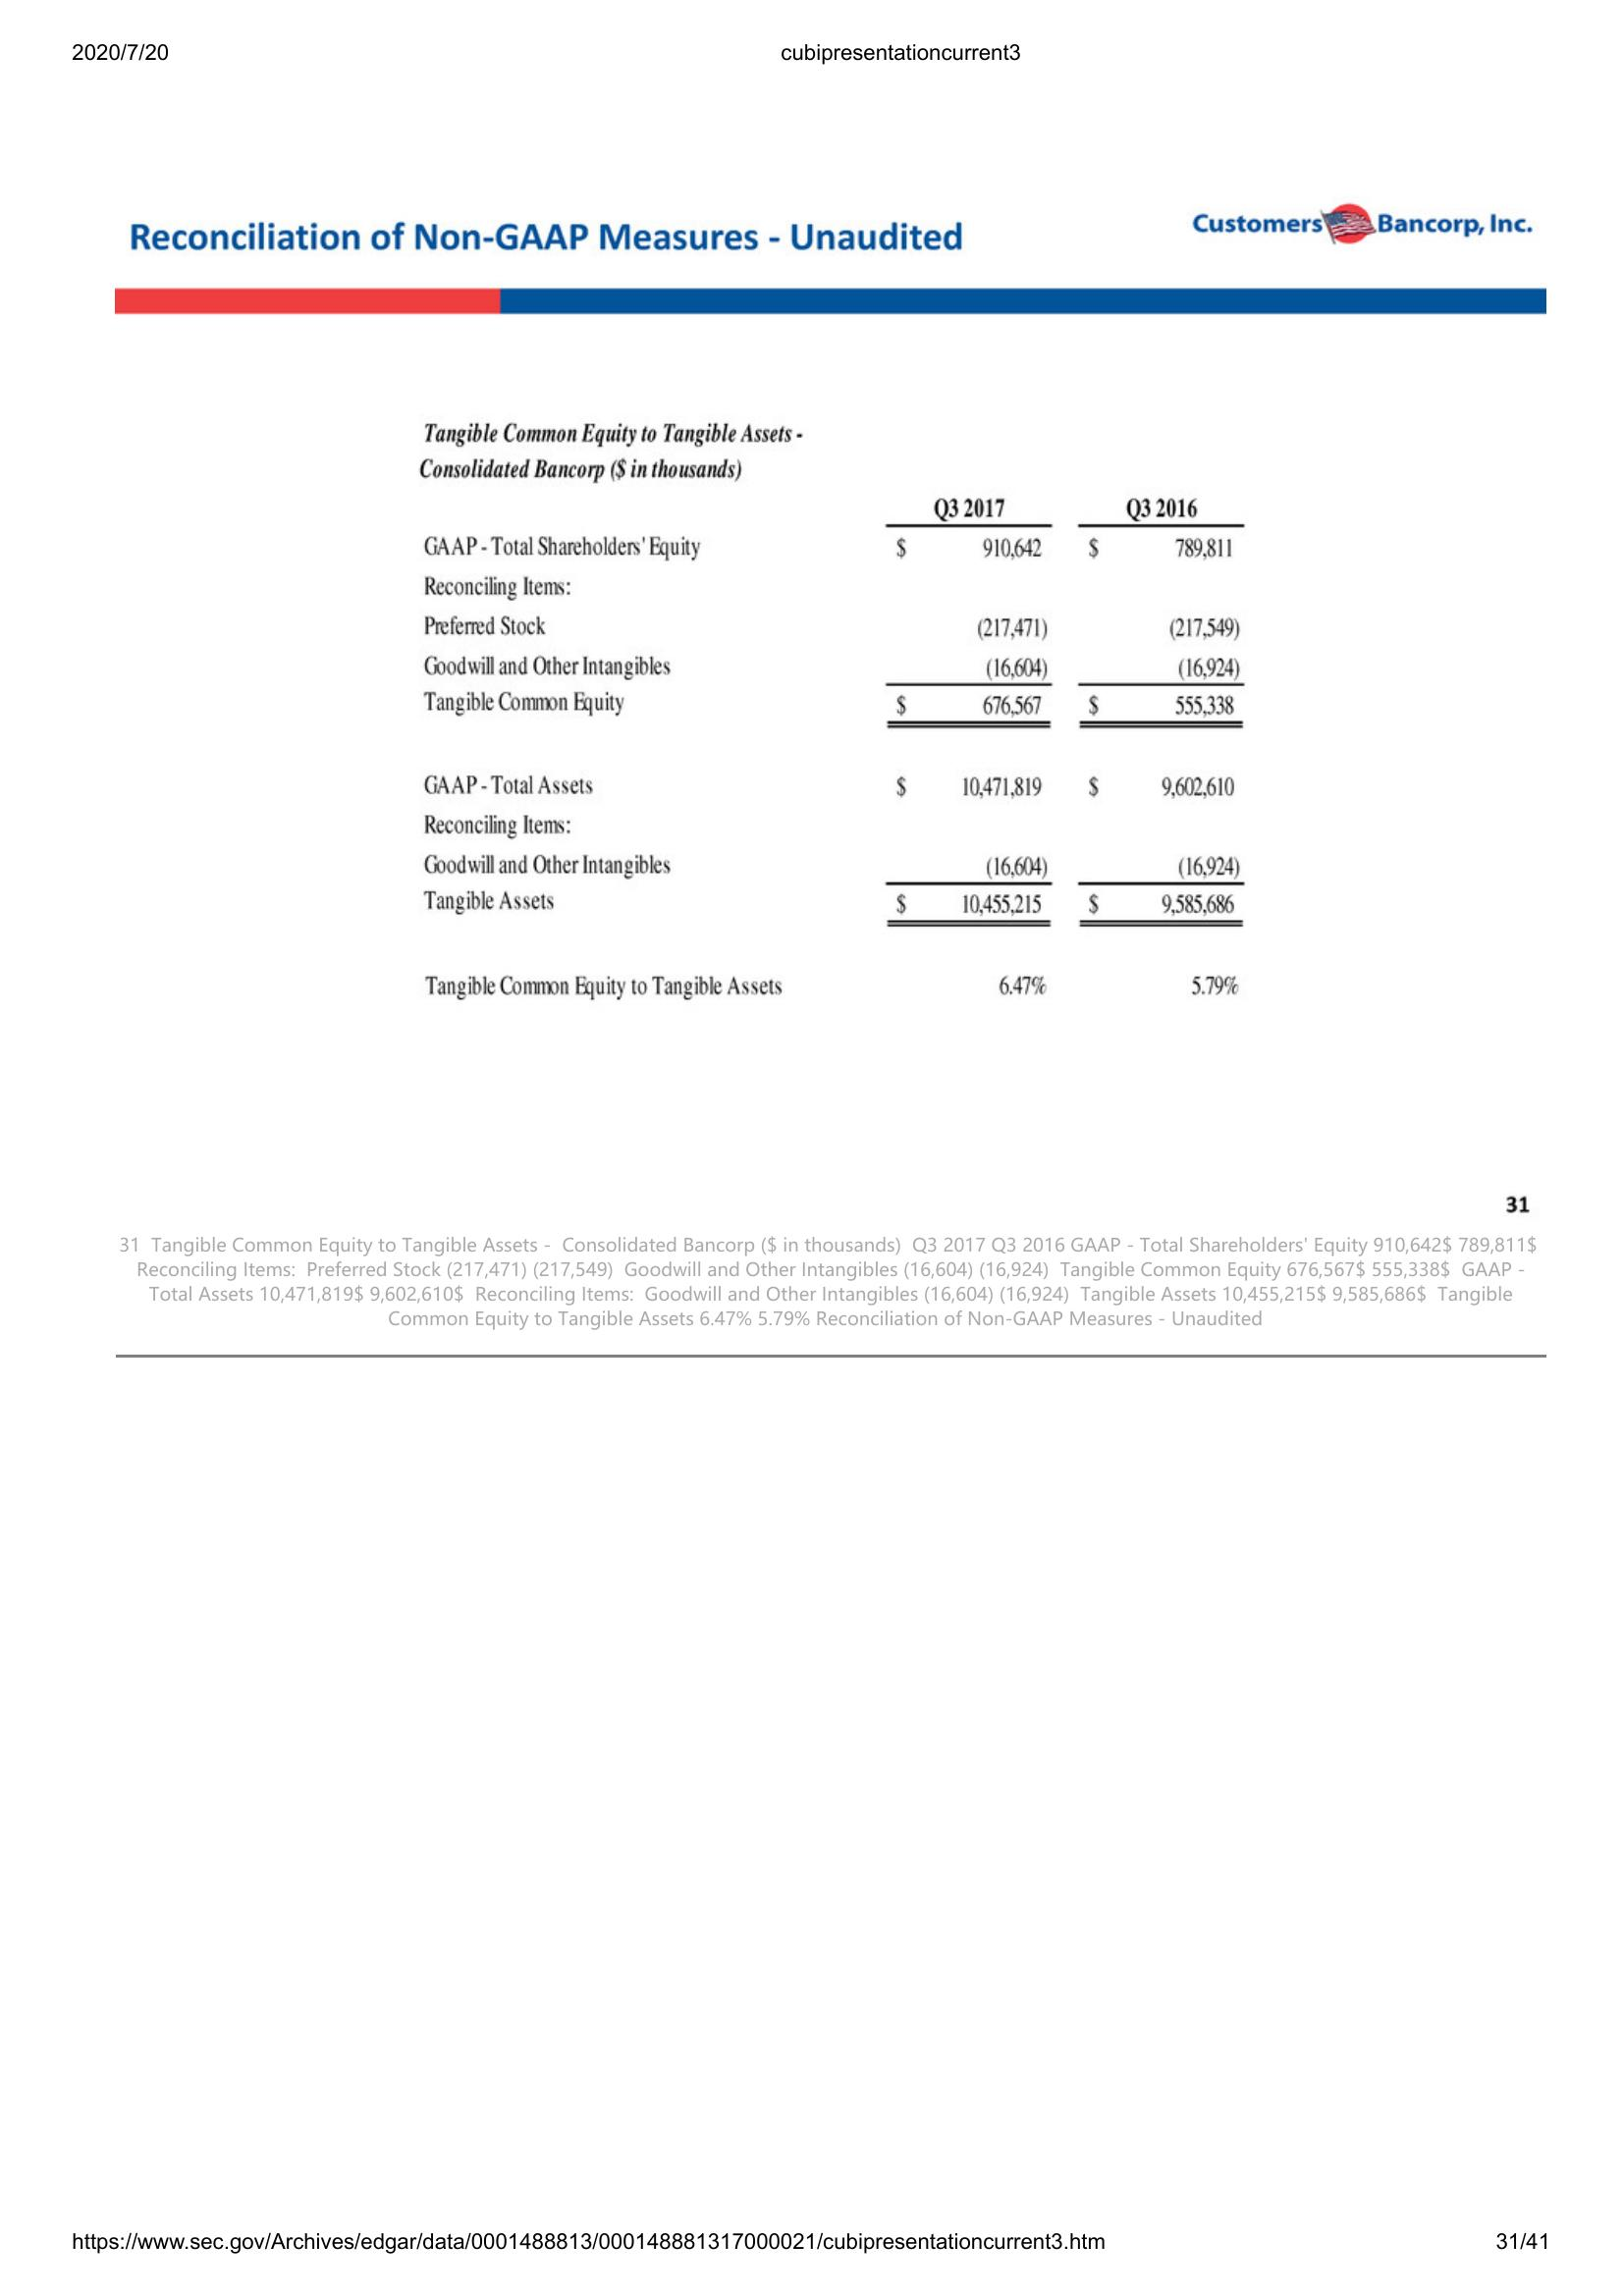table: (416, 407, 1254, 1004)
